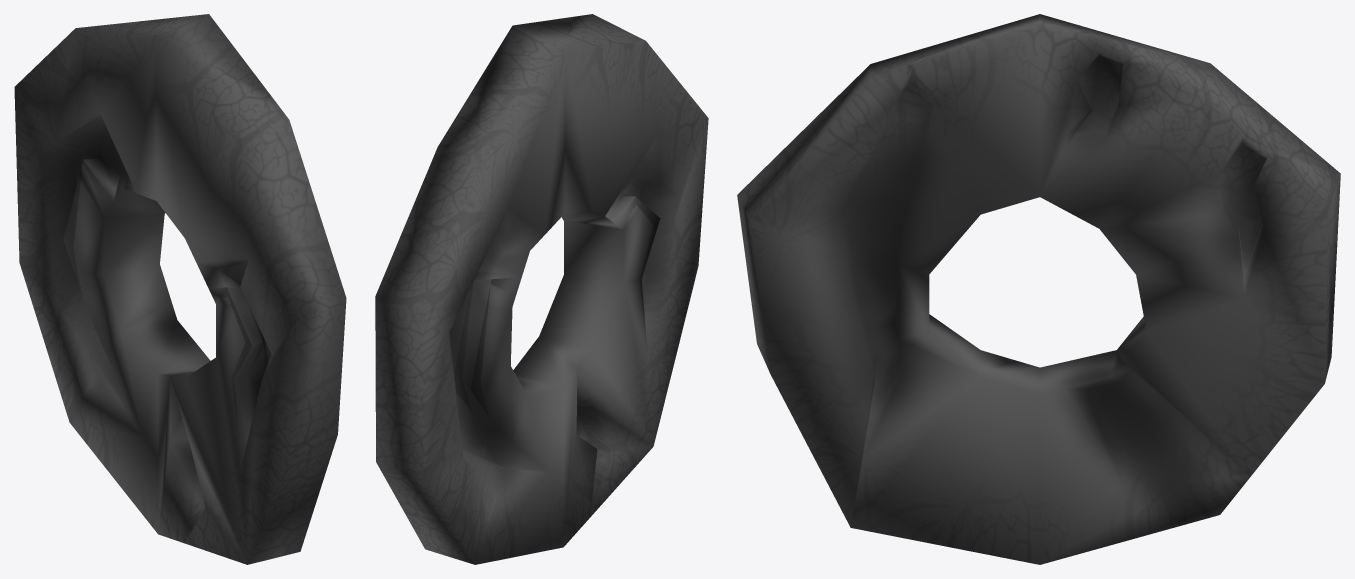
The model's file is Wheel.fbx.
3 views of the same model, side by side, from view 1: azimuth 30°, elevation 25°; view 2: azimuth 150°, elevation 25°; view 3: azimuth 270°, elevation 25° (orthographic). The views are drawn at different scales.
Parts seen in each view (by area): view 1: pCylinder1; view 2: pCylinder1; view 3: pCylinder1.
Boxes of the visible parts, left/top/right/bottom form: pCylinder1: left=14, top=14, right=346, bottom=564; pCylinder1: left=375, top=14, right=708, bottom=564; pCylinder1: left=737, top=14, right=1340, bottom=564.
Bounding box in the file's own units: 20.17 × 177 × 180.
